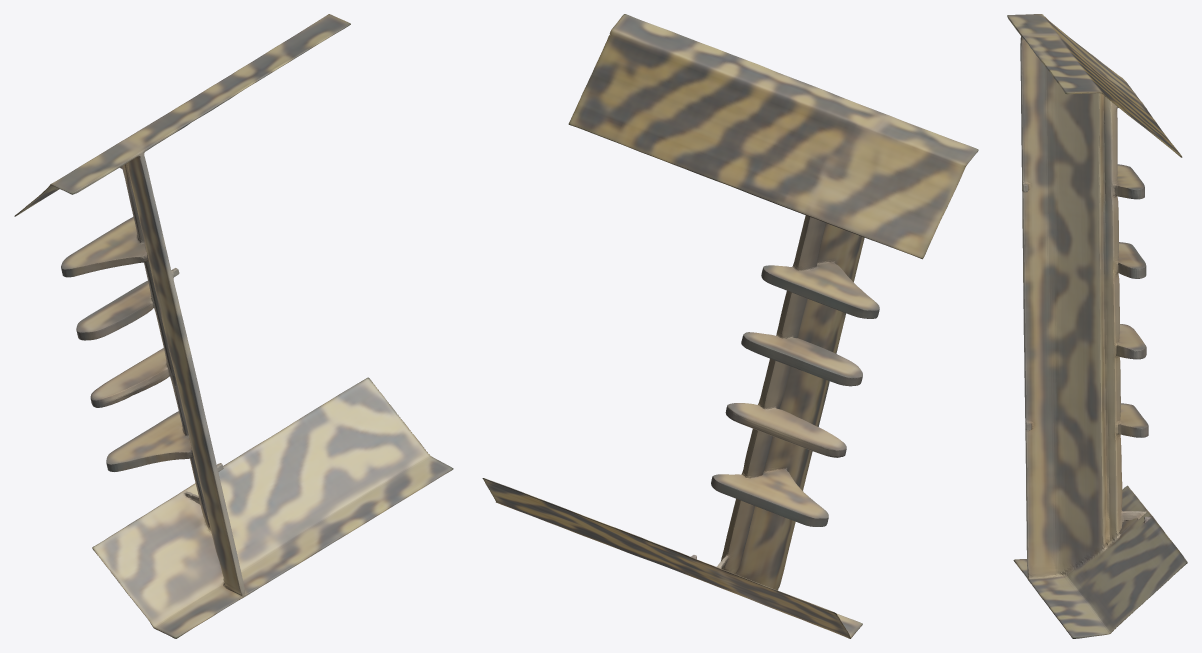
The model's file is entity-v-guard.glb.
3 views of the same model, side by side, from view 1: azimuth 30°, elevation 25°; view 2: azimuth 150°, elevation 25°; view 3: azimuth 270°, elevation 25° (orthographic). The views are drawn at different scales.
Parts seen in each view (by area): view 1: geometry_0; view 2: geometry_0; view 3: geometry_0.
Part boxes in pixels (<box>): geometry_0: <box>14,14,453,638</box>; geometry_0: <box>482,14,978,638</box>; geometry_0: <box>1007,14,1187,638</box>.
Size of the model in its own units: 2.51 by 3.15 by 0.9044.
